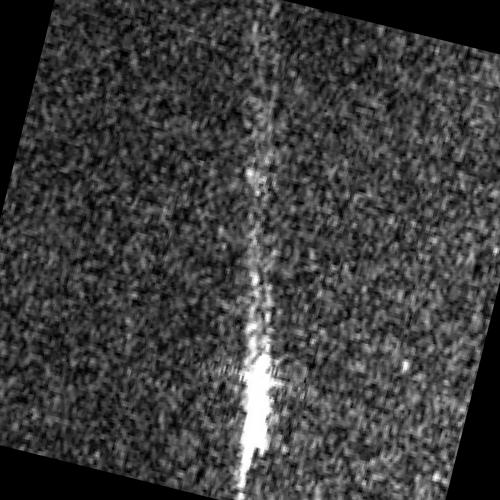ship: (243, 352, 271, 460)
